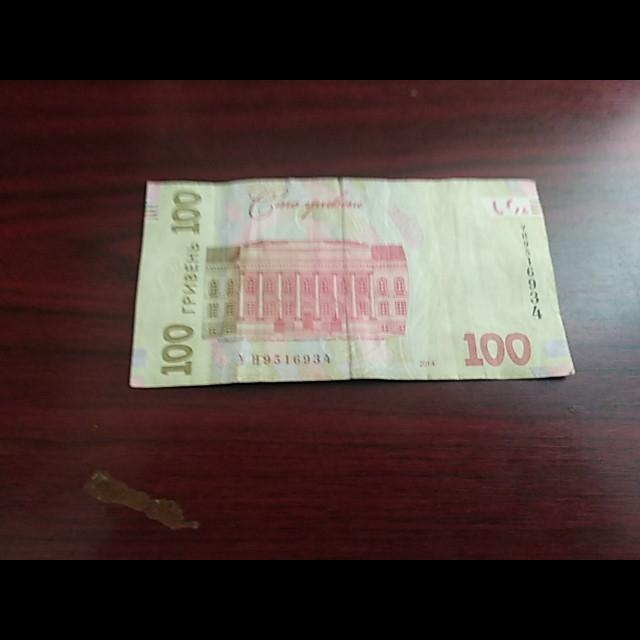100uah: (129, 179, 574, 387)
